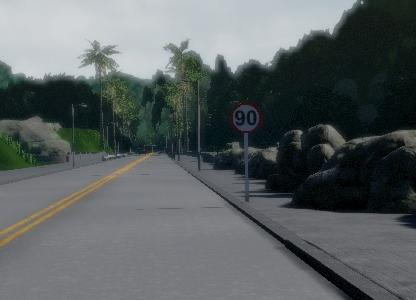Speed_90: (228, 101, 263, 136)
